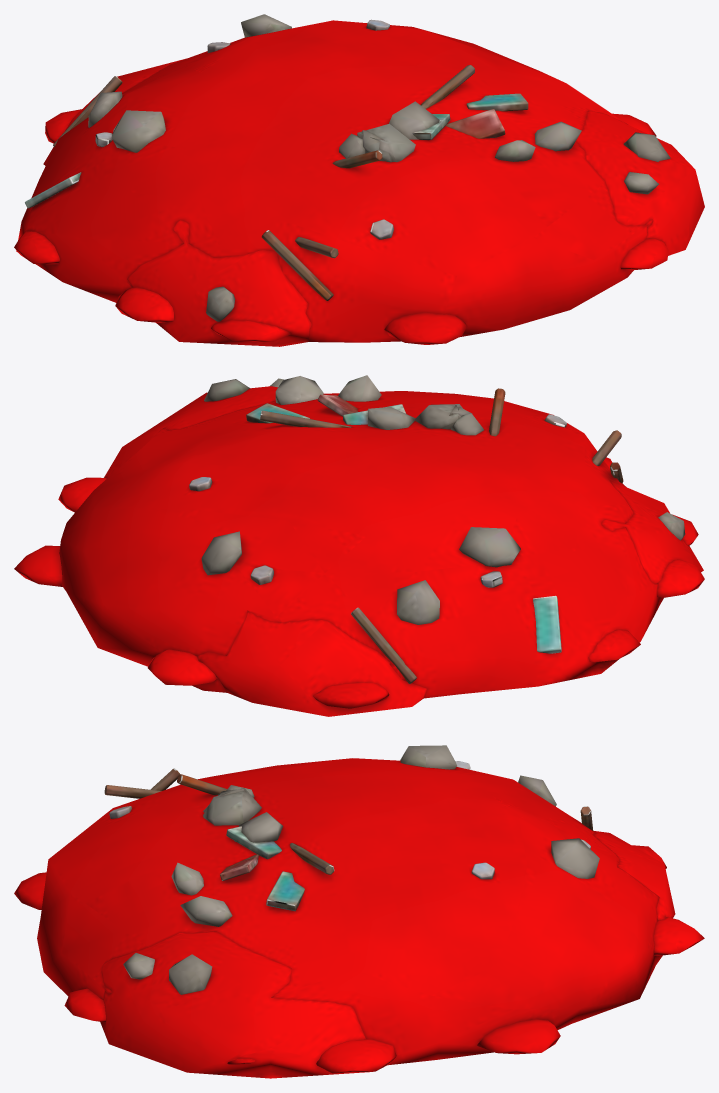
Rendered from mound.glb.
3 views of the same model, one above another, from view 1: azimuth 30°, elevation 25°; view 2: azimuth 150°, elevation 25°; view 3: azimuth 270°, elevation 25° (orthographic).
Parts seen in each view (by area): view 1: body; view 2: body; view 3: body.
Part boxes in pixels (<box>): body: <box>14,14,704,346</box>; body: <box>14,375,704,716</box>; body: <box>14,745,704,1078</box>.
Bounding box in the file's own units: 2.21 × 0.4873 × 2.22.
Materials: 1 (1 with a texture image).
